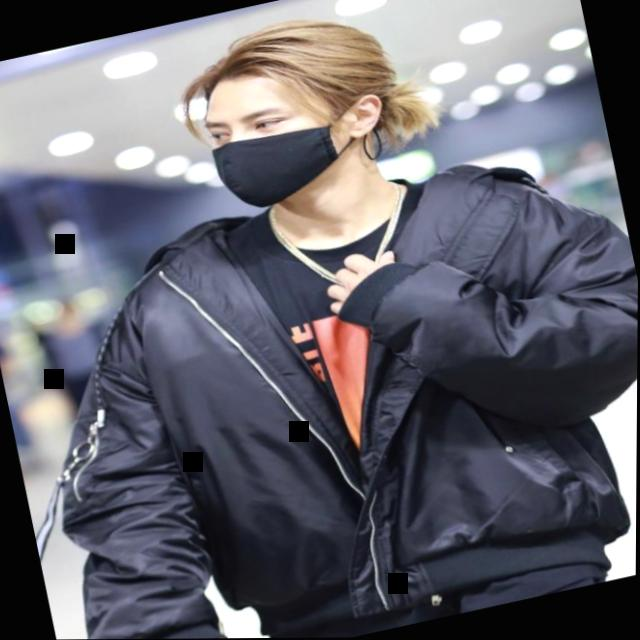Mask: (193, 50, 384, 222)
